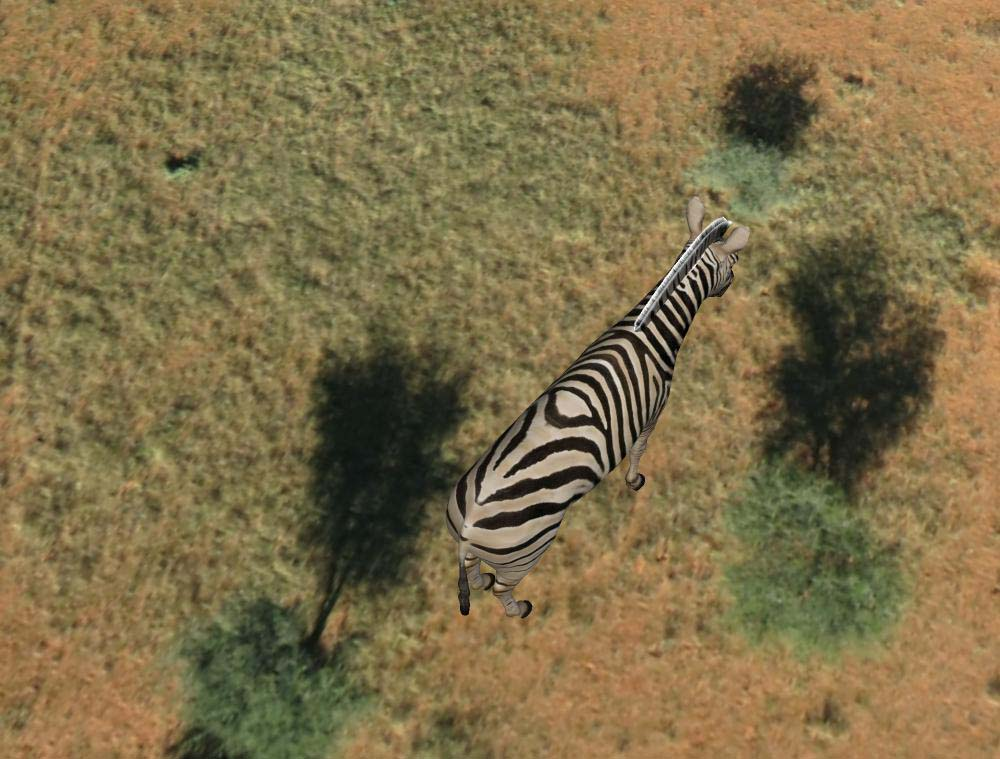zebra: (450, 196, 750, 623)
